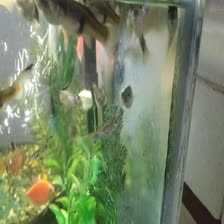Guppy: (36, 0, 118, 52), (162, 3, 179, 50), (120, 81, 137, 111)
Plano: (24, 176, 58, 206)
Transparente: (2, 141, 26, 173)
